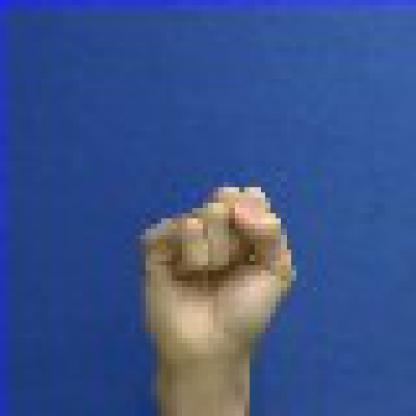zero: (100, 162, 337, 371)
